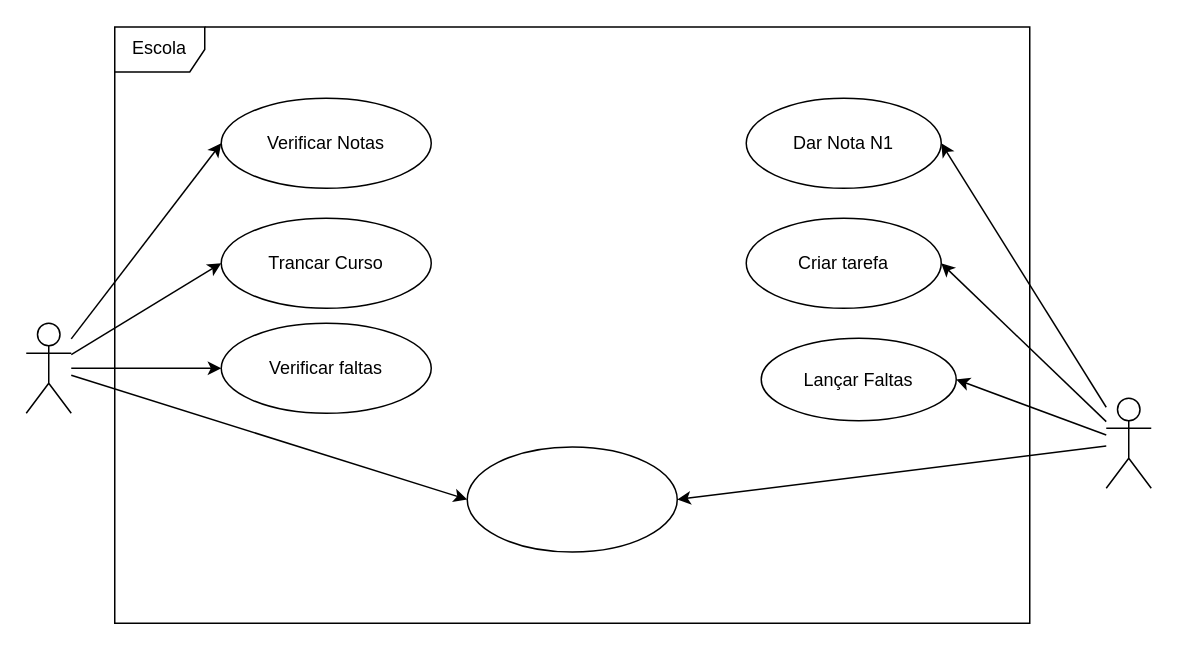
The diagram is 1193 pixels wide and 650 high, and some of its shapes have lost their labels. The box of each missing label's shape, as (x1, y1, x2, y2) in pixels:
Aluno: (25, 322, 71, 413)
Logar no sistema: (466, 446, 677, 552)
Professor: (1105, 397, 1151, 488)
